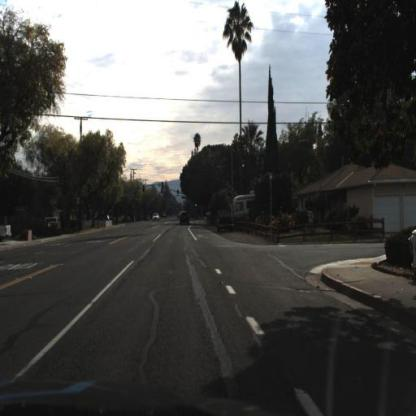car: (217, 211, 235, 234), (176, 209, 193, 231)
truck: (233, 195, 257, 218)
